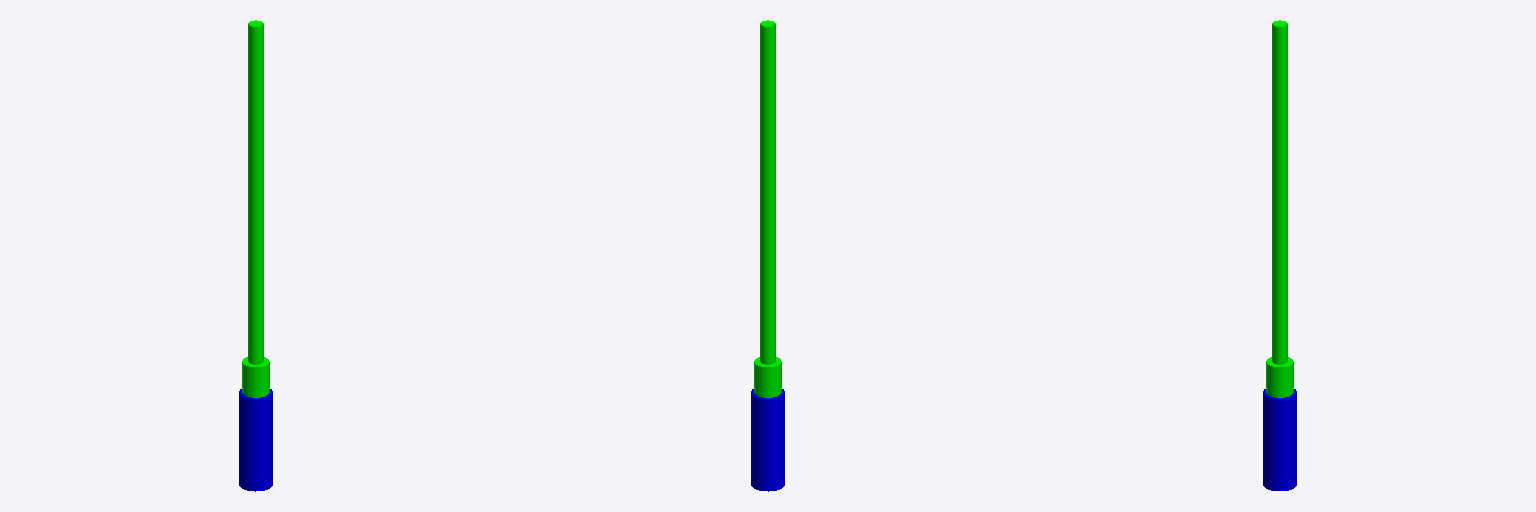
robot.urdf — two_segment_arm:
<?xml version="1.0"?>
<robot name="two_segment_arm">

  <!-- Link 1 -->
  <link name="link1">
    <visual>
      <origin xyz="0 0 0.015" rpy="0 0 0"/>
      <geometry>
        <cylinder length="0.03" radius="0.005"/>
      </geometry>
      <material name="blue">
        <color rgba="0 0 1 1"/>
      </material>
    </visual>
    <collision>
      <origin xyz="0 0 0.015" rpy="0 0 0"/>
      <geometry>
        <cylinder length="0.03" radius="0.005"/>
      </geometry>
    </collision>
    <inertial>
      <origin xyz="0 0 0.015" rpy="0 0 0"/>
      <mass value="0.1"/>
      <inertia 
        ixx="1e-5" ixy="0.0" ixz="0.0"
        iyy="1e-5" iyz="0.0"
        izz="1e-5"/>
    </inertial>
  </link>

  <!-- Joint 1: Base to Link 1 -->
  <joint name="joint1" type="revolute">
    <parent link="base_link"/>
    <child link="link1"/>
    <origin xyz="0 0 0" rpy="0 0 0"/>
    <axis xyz="0 1 0"/>
    <limit lower="-3.14" upper="3.14" effort="1.0" velocity="1.0"/>
  </joint>

  <!-- Link 2 -->
  <link name="link2">
    <visual>
      <origin xyz="0 0 0.065" rpy="0 0 0"/>
      <geometry>
        <mesh filename="package://finger_pkg/urdf/meshes/finger/visual/Joint.stl" scale="0.001 0.001 0.001"/>
      </geometry>
      <material name="green">
        <color rgba="0 1 0 1"/>
      </material>
    </visual>
    <collision>
      <origin xyz="0 0 0.065" rpy="0 0 0"/>
      <geometry>
        <mesh filename="package://finger_pkg/urdf/meshes/finger/visual/Joint.stl" scale="0.001 0.001 0.001"/>
      </geometry>
    </collision>
    <inertial>
      <origin xyz="0 0 0.065" rpy="0 0 0"/>
      <mass value="0.1"/>
      <inertia 
        ixx="1e-5" ixy="0.0" ixz="0.0"
        iyy="1e-5" iyz="0.0"
        izz="1e-5"/>
    </inertial>
  </link>

  <!-- Joint 2: Link 1 to Link 2 -->
  <joint name="joint2" type="revolute">
    <parent link="link1"/>
    <child link="link2"/>
    <origin xyz="0 0 0.03" rpy="0 0 0"/>
    <axis xyz="1 0 0"/>
    <limit lower="-3.14" upper="3.14" effort="1.0" velocity="1.0"/>
  </joint>

  <!-- Base link (invisible, static) -->
  <link name="base_link"/>

</robot>

--- Render facts (derived) ---
3 views of the same robot in one strip: view 1: azimuth 30°, elevation 25°; view 2: azimuth 150°, elevation 25°; view 3: azimuth 270°, elevation 25° (orthographic).
Model two_segment_arm with 3 links and 2 joints (2 revolute), rooted at base_link, posed every joint at zero.
Visible links, largest first — view 1: link2, link1; view 2: link2, link1; view 3: link2, link1.
Link boxes in pixels (x1=…): link2: x1=242, y1=20, x2=269, y2=397; link1: x1=239, y1=389, x2=272, y2=491; link2: x1=754, y1=20, x2=781, y2=397; link1: x1=751, y1=389, x2=784, y2=491; link2: x1=1266, y1=20, x2=1293, y2=397; link1: x1=1263, y1=389, x2=1296, y2=490.
Size in the robot's own frame: 0.01 by 0.01 by 0.15 metres.
Meshes: 1 distinct files referenced, 1 mesh visuals loaded (1 binary STL).
